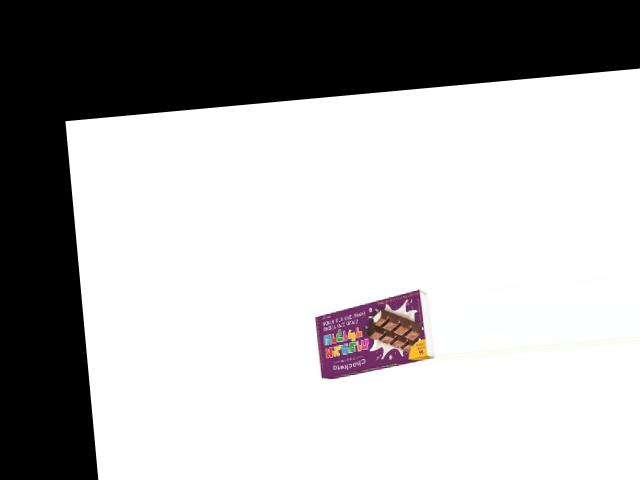chocolate: (306, 294, 437, 380)
